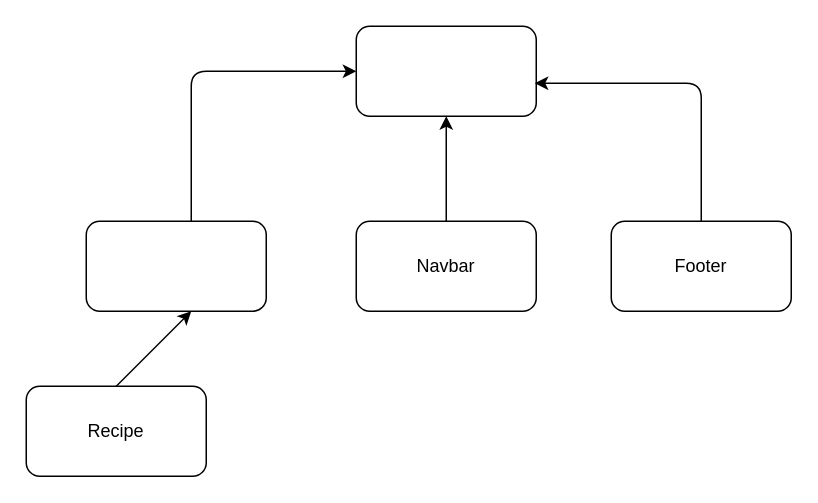
Some shapes in this 818 by 503 pixel diagram are drawn without their labels. Each missing label, with the centre of its shape:
"App" goes at pixel 445 70.
"Recipes" goes at pixel 175 265.
